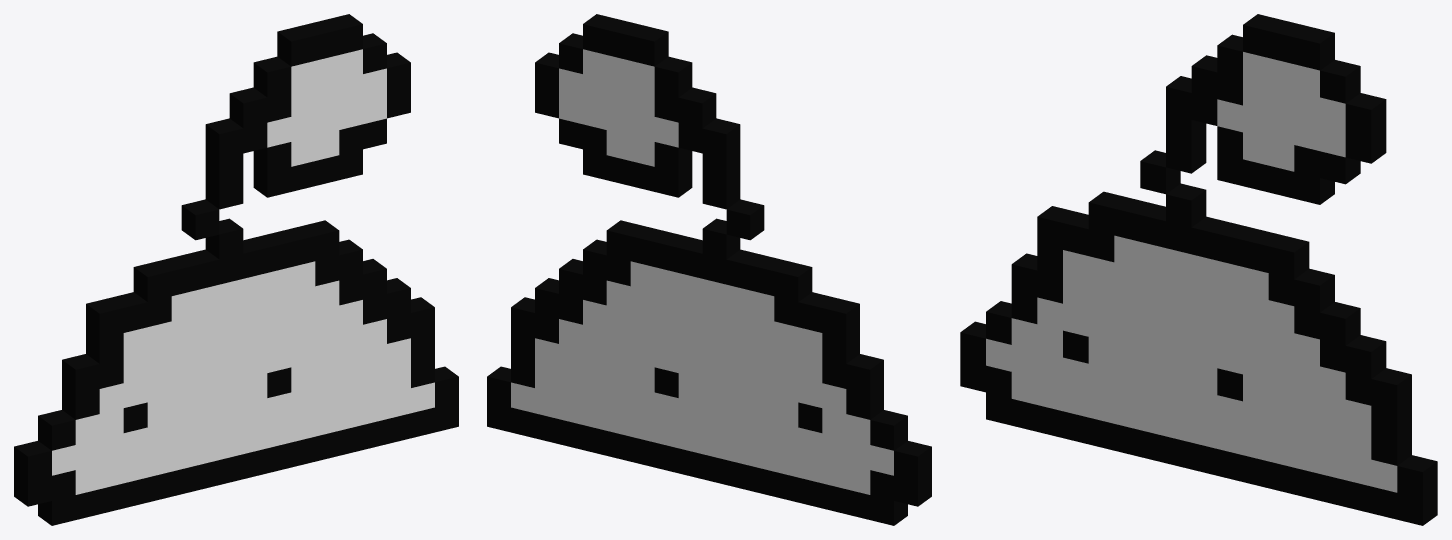
File: slimeking-toss-3.obj
3 views of the same model, side by side, from view 1: azimuth 30°, elevation 25°; view 2: azimuth 150°, elevation 25°; view 3: azimuth 330°, elevation 25° (orthographic). The views are drawn at different scales.
Bounding box in the file's own units: 1.8 × 1.7 × 0.1.
Materials: 1 (1 with a texture image).
